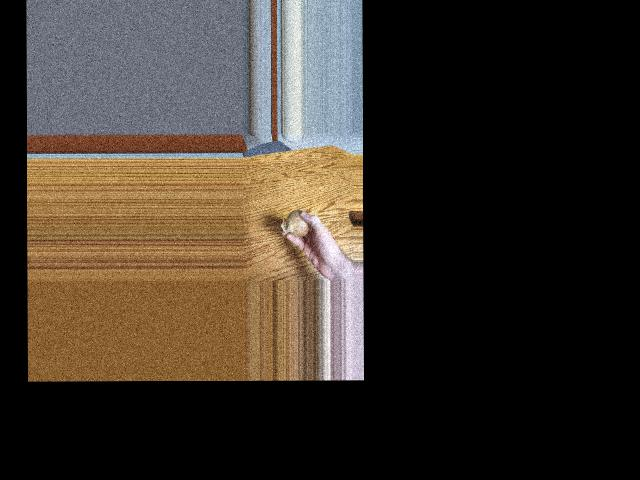onion: (285, 209, 311, 235)
